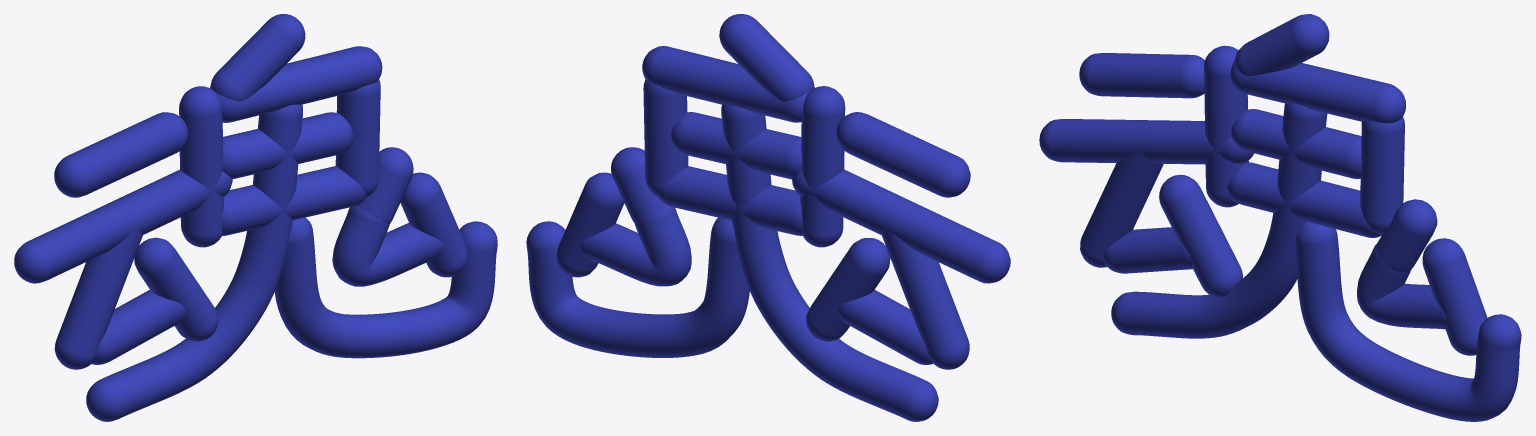
The model's file is tamahii.fbx.
3 renders of one model, left to right at view 1: azimuth 30°, elevation 25°; view 2: azimuth 150°, elevation 25°; view 3: azimuth 330°, elevation 25°, orthographic.
Parts seen in each view (by area): view 1: node_id28 (×16); view 2: node_id28 (×16); view 3: node_id28 (×16).
Boxes of the visible parts, box(x1,y1,x2,y2) form: node_id28 (×16): box(14, 14, 497, 421); node_id28 (×16): box(526, 14, 1010, 421); node_id28 (×16): box(1039, 14, 1521, 421).
Bounding box in the file's own units: 0.755 × 0.5541 × 0.0593.
